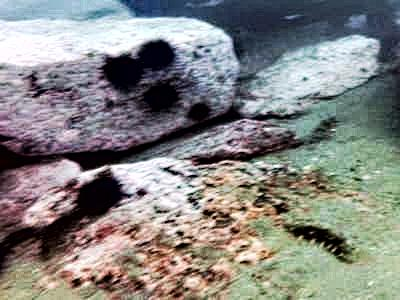urchin: (75, 178, 122, 212), (103, 54, 142, 91), (138, 38, 173, 66), (148, 82, 177, 106), (185, 103, 210, 120)
